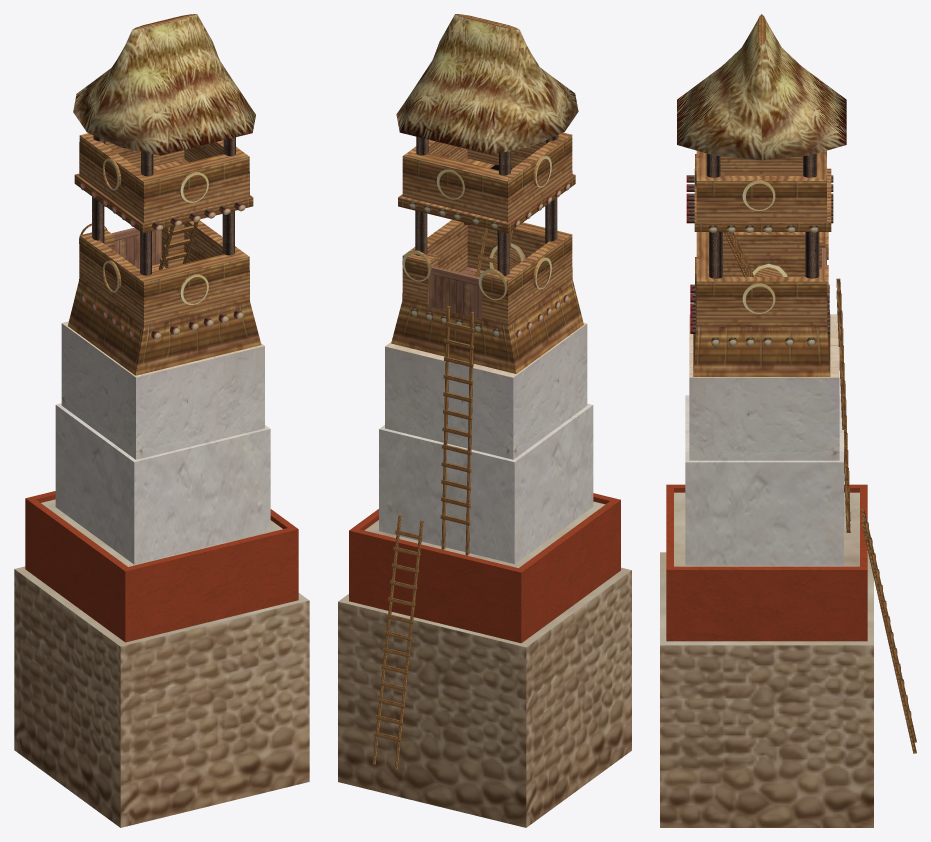
The model's file is elmirador_defense_big_tower.dae.
3 views of the same model, side by side, from view 1: azimuth 30°, elevation 25°; view 2: azimuth 150°, elevation 25°; view 3: azimuth 270°, elevation 25° (orthographic).
Visible parts, largest first — view 1: torre_2; view 2: torre_2; view 3: torre_2.
Boxes of the visible parts, <box> form: torre_2: <box>14,14,309,827</box>; torre_2: <box>338,14,631,827</box>; torre_2: <box>660,14,916,827</box>.
Bounding box in the file's own units: 8.02 × 9.37 × 30.27.
